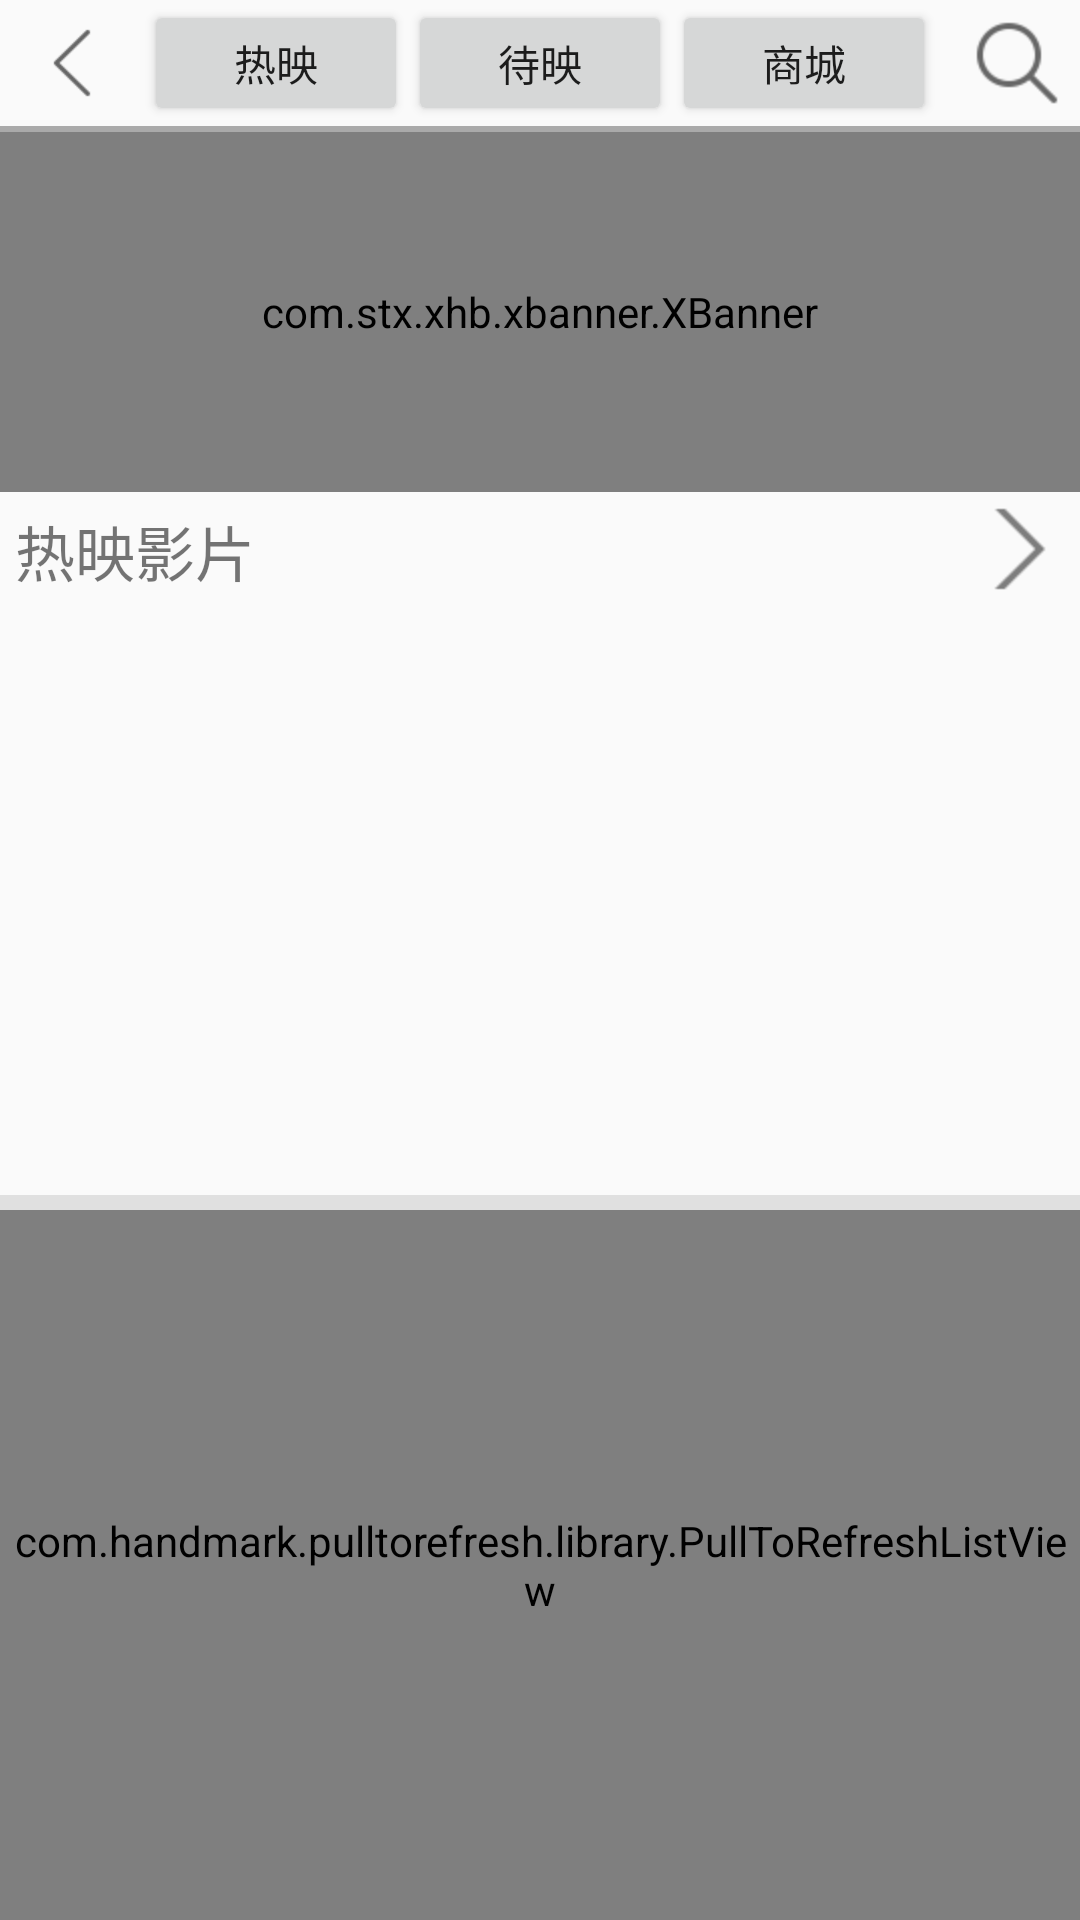

Icons on this 1080px x 1920px Android screen, each with its box as (x1, y1, x2, y2):
location back: (54, 30, 90, 96)
search: (976, 22, 1058, 104)
